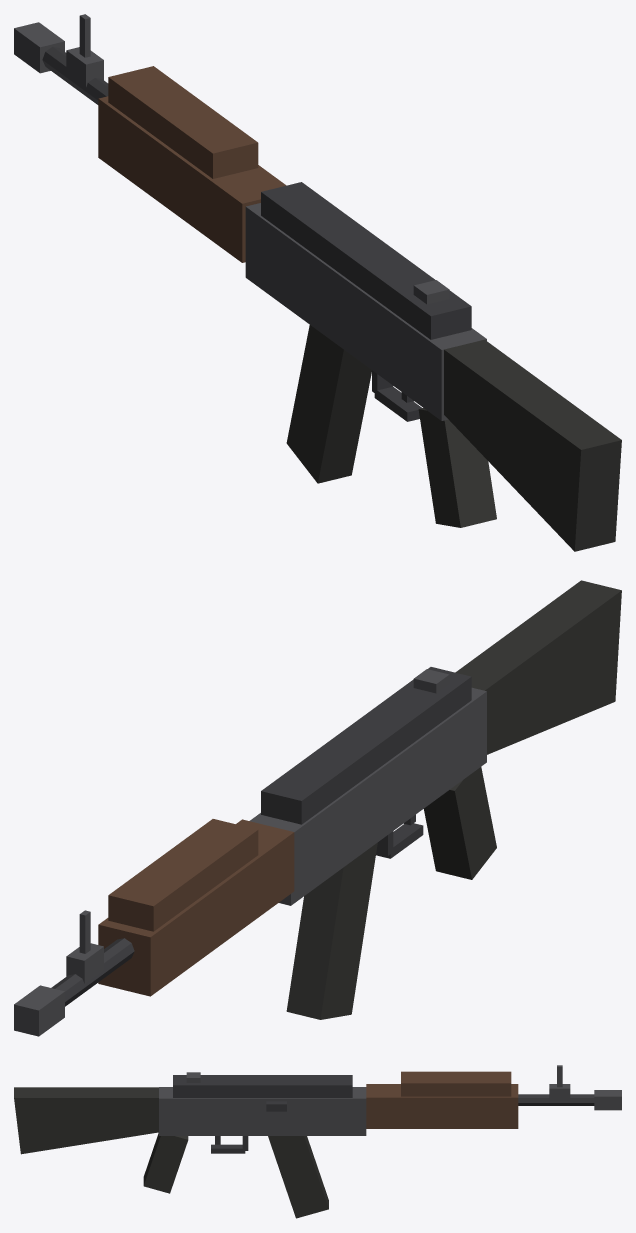
File: rifle.glb
3 renders of one model, top to bottom at view 1: azimuth 30°, elevation 25°; view 2: azimuth 150°, elevation 25°; view 3: azimuth 270°, elevation 25°, orthographic. The views are drawn at different scales.
Visible parts, largest first — view 1: rifle; view 2: rifle; view 3: rifle.
Part boxes in pixels (box(x1,y1,x2,y2)): rifle: box(14, 14, 621, 551); rifle: box(14, 580, 621, 1036); rifle: box(14, 1065, 621, 1218).
Size of the model in its own units: 0.054 by 0.2365 by 0.88.
